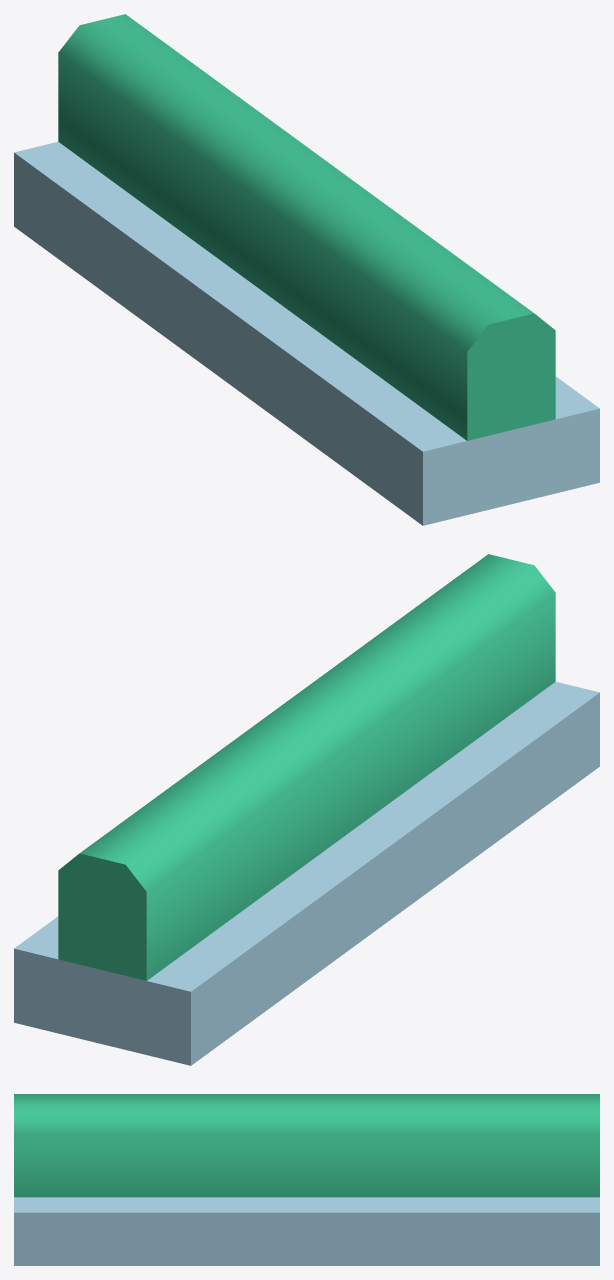
File: hedge.obj
3 views of the same model, one above another, from view 1: azimuth 30°, elevation 25°; view 2: azimuth 150°, elevation 25°; view 3: azimuth 270°, elevation 25° (orthographic). The views are drawn at different scales.
Parts seen in each view (by area): view 1: hedge; view 2: hedge; view 3: hedge.
Part boxes in pixels (bbox=[...]): hedge: bbox=[14, 14, 599, 525]; hedge: bbox=[14, 554, 599, 1065]; hedge: bbox=[14, 1094, 599, 1265].
Size of the model in its own units: 0.25 by 0.25 by 1.
